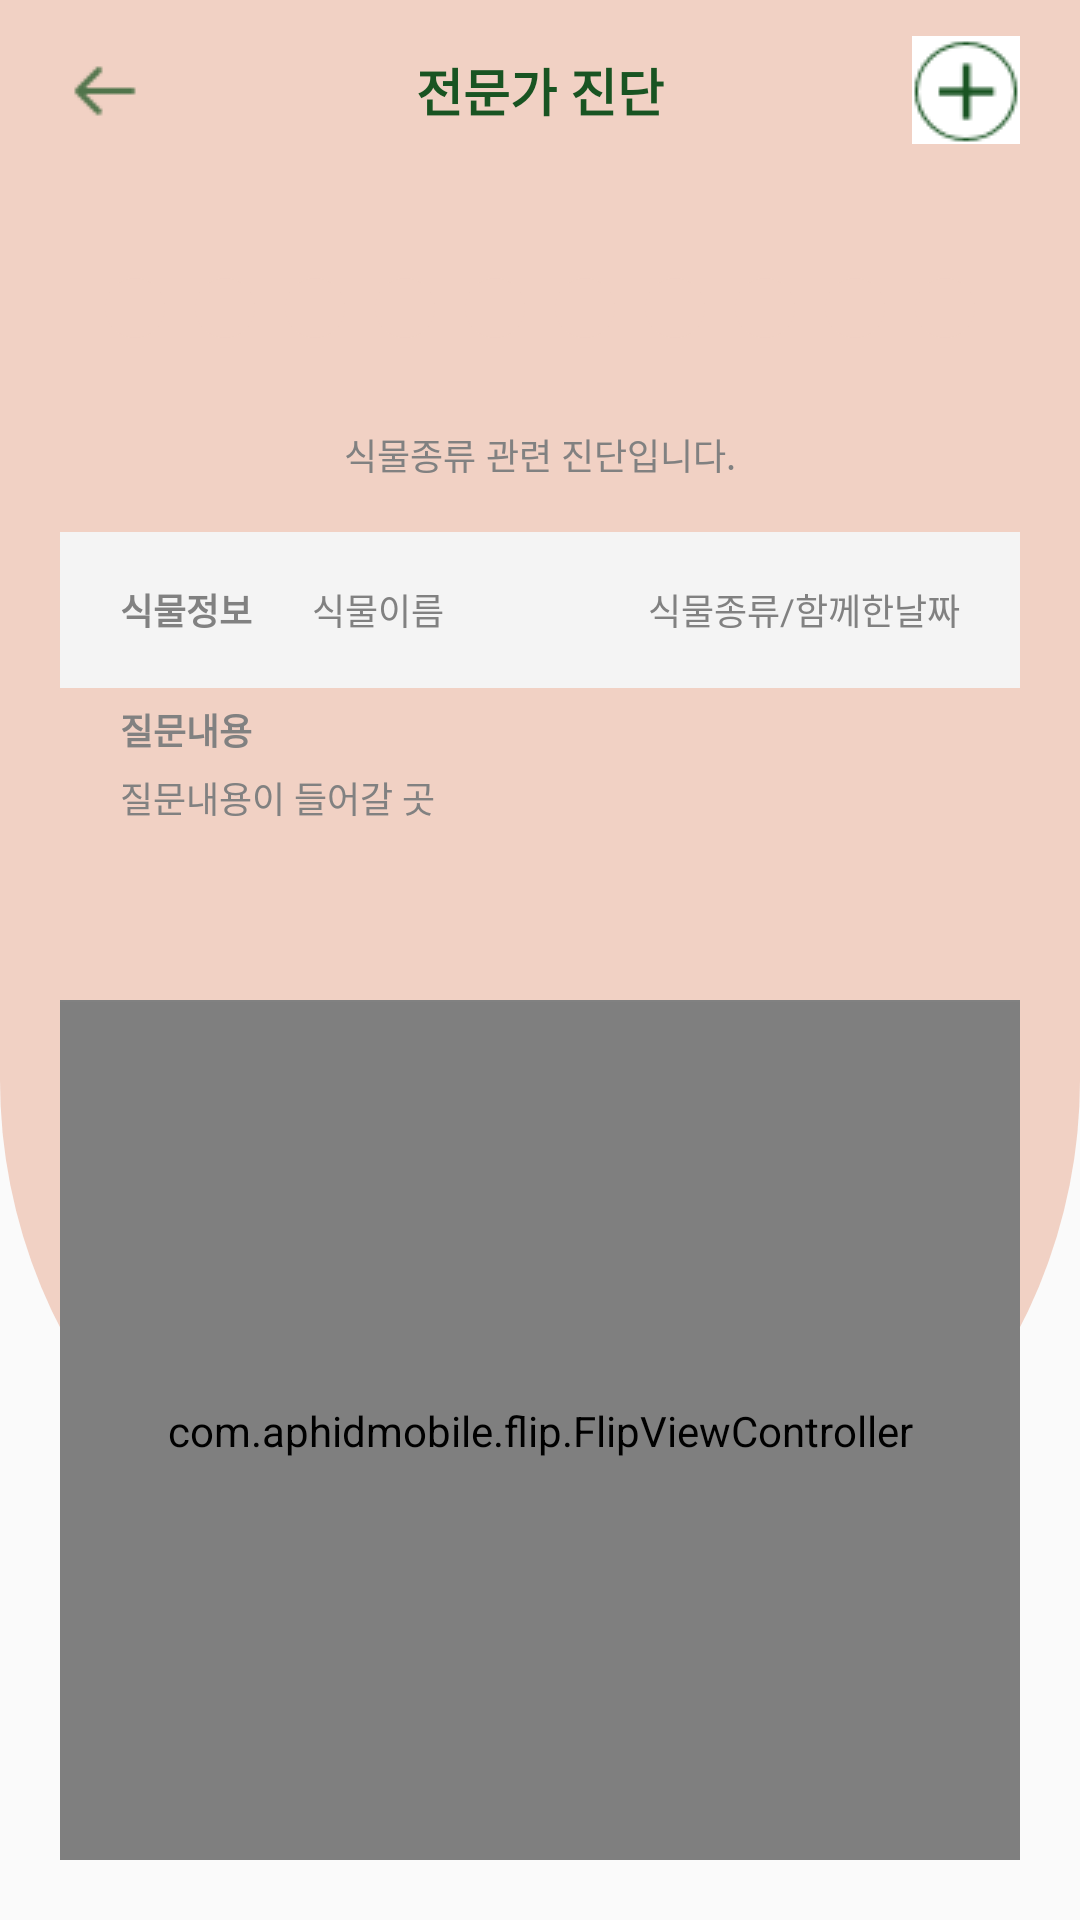

Named icons in this screenshot (1080 x 1920) and their bounding boxes, bbox(x1, y1, x2, y2):
back: bbox(74, 66, 136, 116)
plus: bbox(912, 36, 1020, 144)
